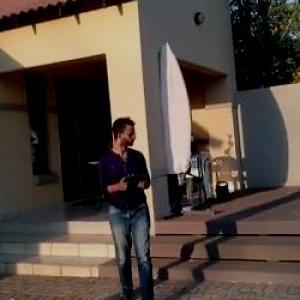follow: (94, 110, 160, 299)
